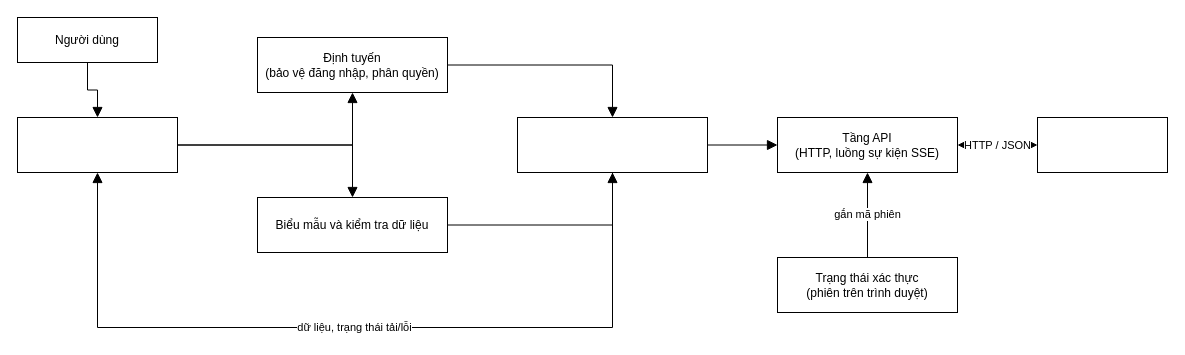
The diagram is 1185 pixels wide and 355 high, and some of its shapes have lost their labels. The shapes that lost their labels are listed below. From the top down, each one's centre as x and y in pixels, then its label:
At pixel 97 144: "Thành phần giao diện (trang, hộp thoại)".
At pixel 612 144: "Tầng truy vấn (bộ nhớ đệm dữ liệu máy chủ)".
At pixel 1102 144: "Backend API".
